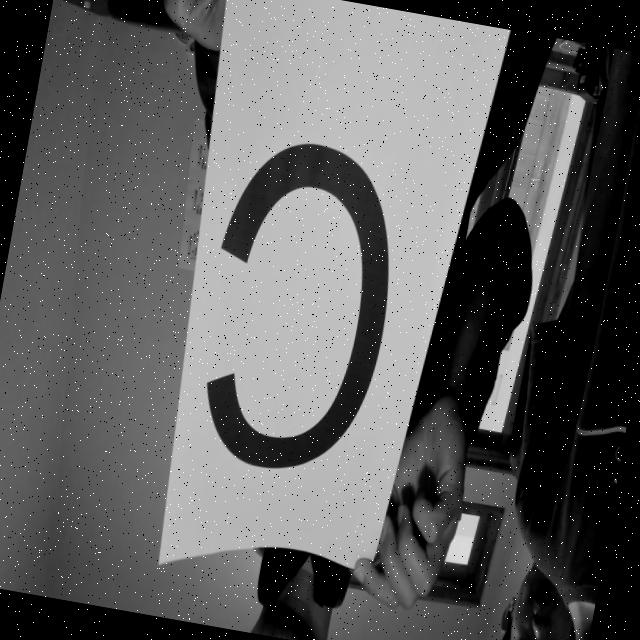c: (178, 128, 414, 498)
